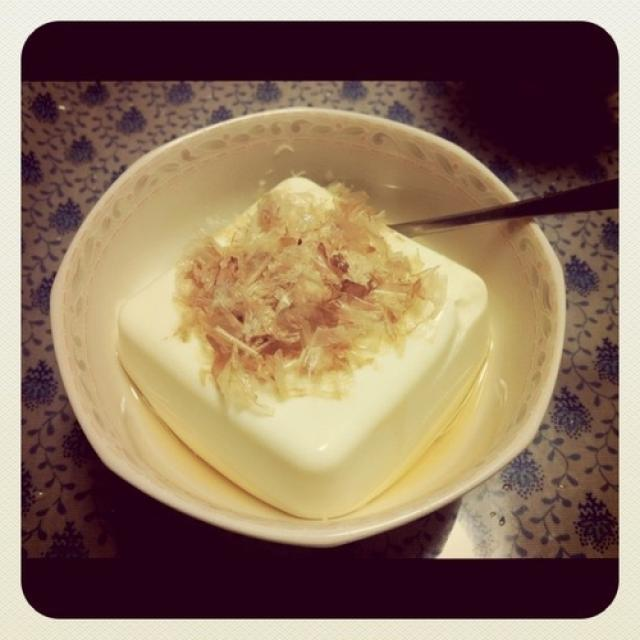豆腐料理: (77, 122, 548, 544)
